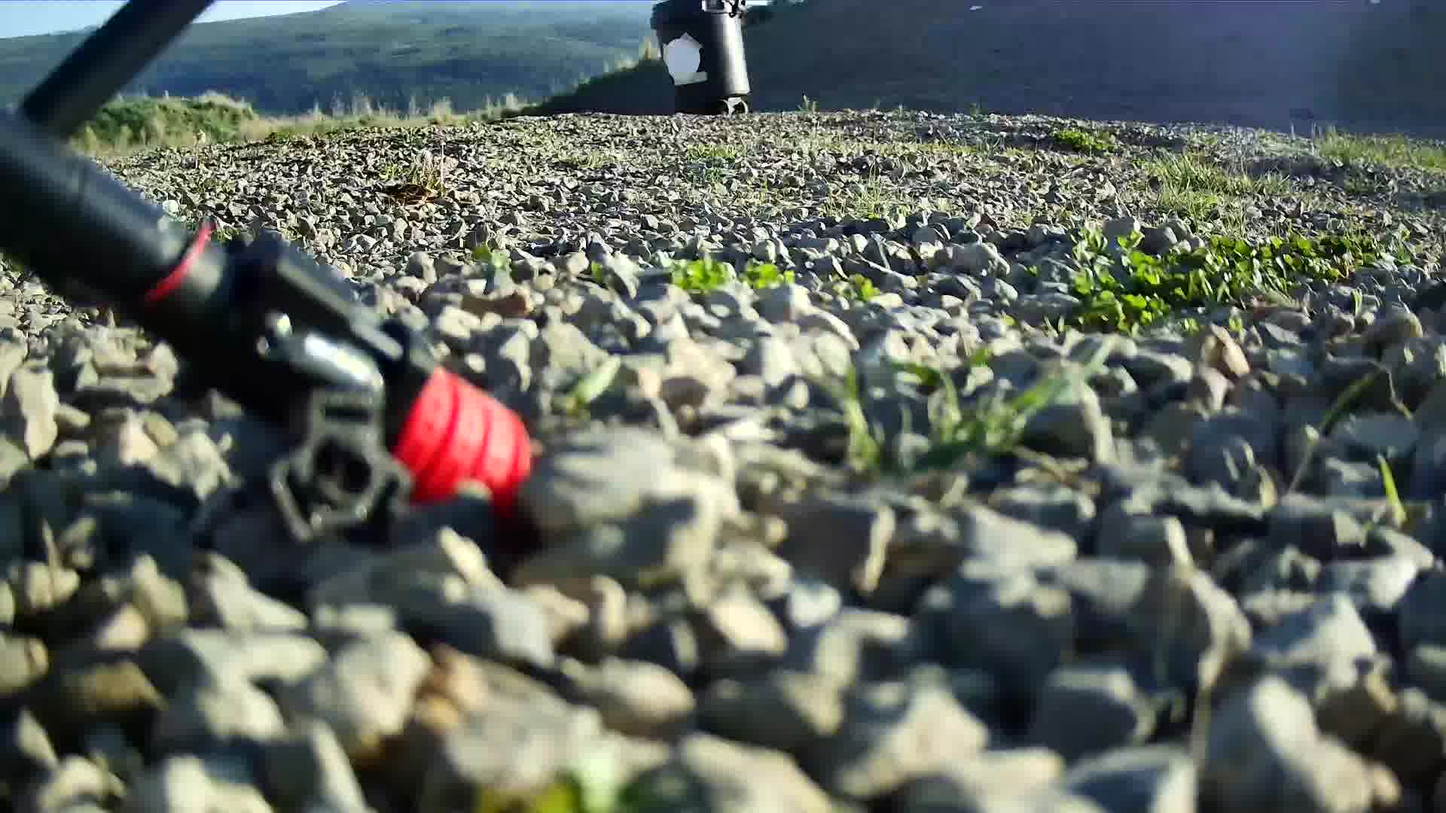Target: (666, 38, 700, 76)
